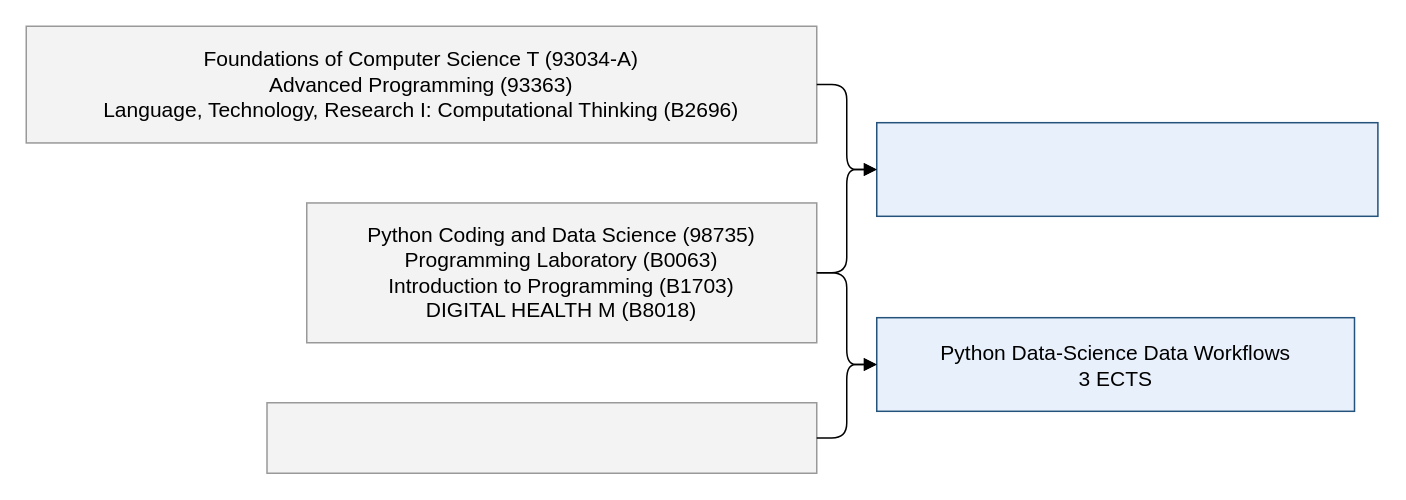
Image size: 1406x500. Some labels were removed from this diagram. The centre of each missing label's shape, as x and y in pixels:
"Computational Management of Data (B8105)" goes at point (541, 437).
"Python Data-Science Tools Foundations 3 ECTS" goes at point (1126, 168).
